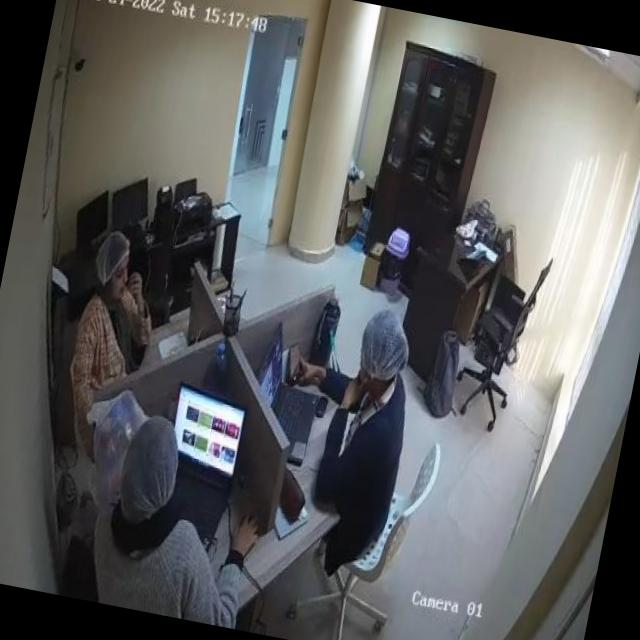hairnet: (120, 420, 183, 512), (356, 308, 413, 379), (96, 230, 130, 280)
